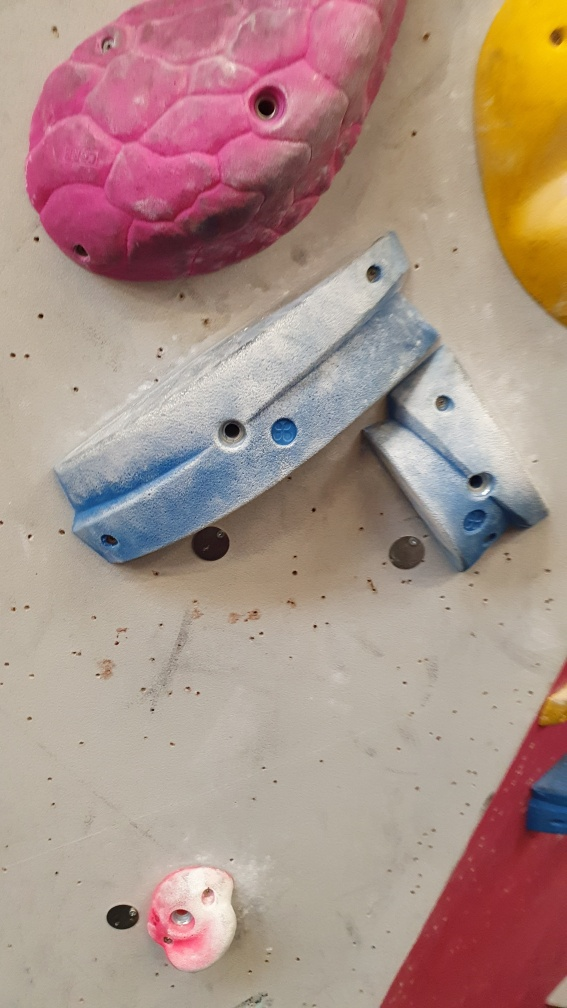Hand Start: (188, 519, 234, 567), (388, 534, 427, 577), (106, 900, 141, 933)
Pinch: (52, 228, 442, 582), (365, 350, 551, 574)
